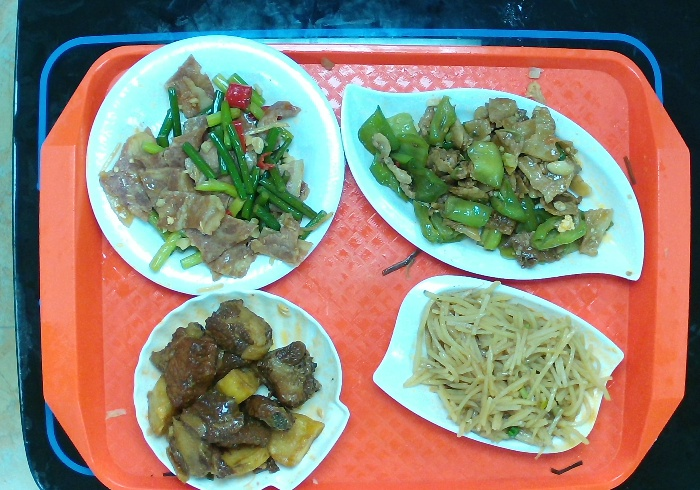RJxy-Bei_Ke_Wan: (129, 286, 354, 490)
RJxy-Jian_Jiao_Fang_Die: (371, 271, 628, 457)
RJxy-Jian_Jiao_Pan: (339, 78, 648, 289)
RJxy-Yuan_Pan: (82, 30, 348, 300)
